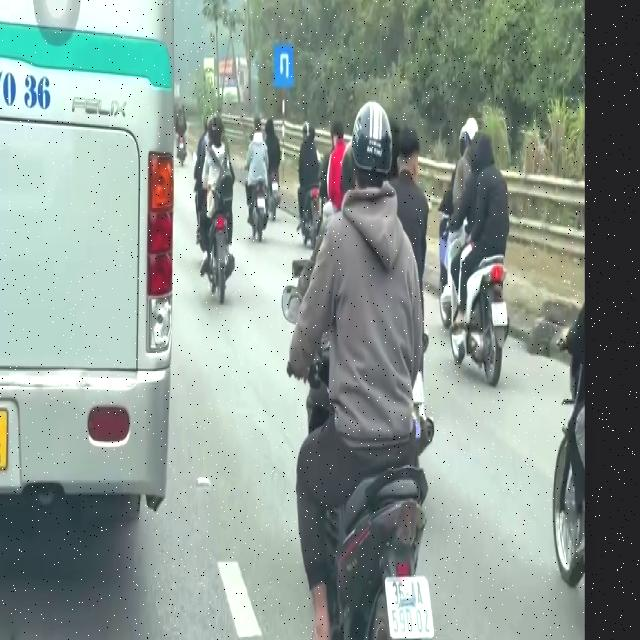helmet: (346, 99, 391, 234)
